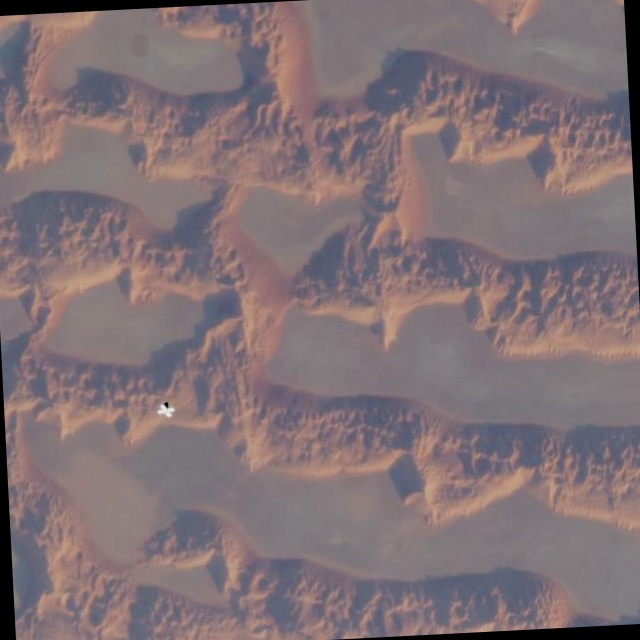satellite: (154, 395, 182, 421)
